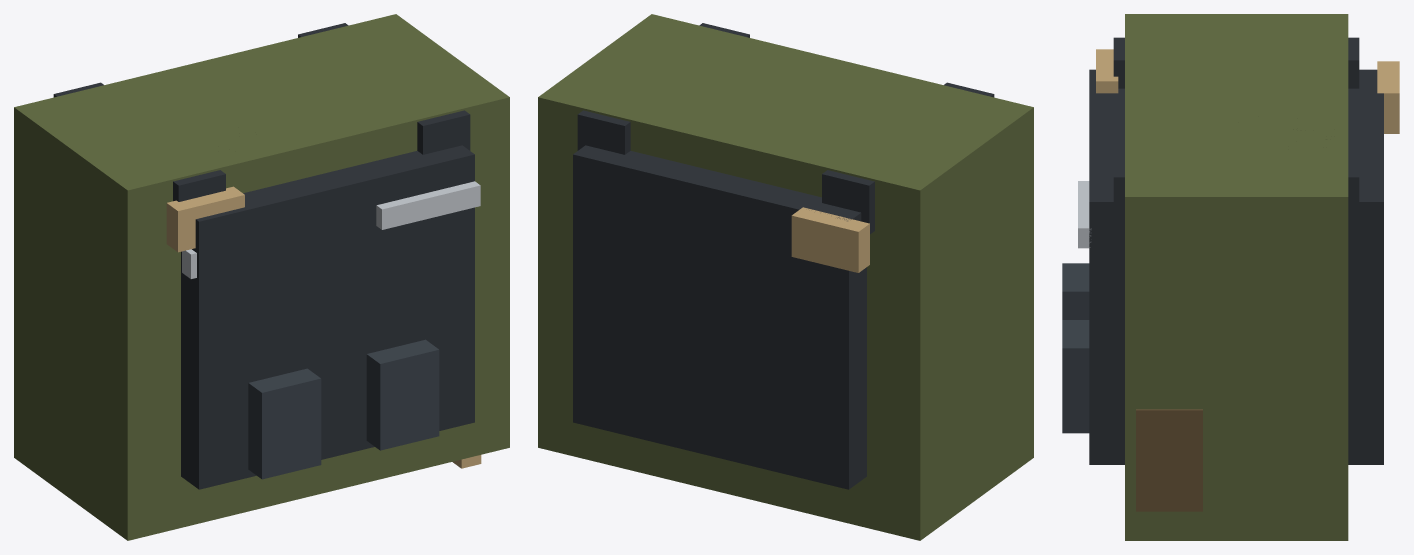
File: pc_k9_upper_torso.fbx
The picture shows the model from 3 angles, left to right: view 1: azimuth 30°, elevation 25°; view 2: azimuth 150°, elevation 25°; view 3: azimuth 270°, elevation 25°; orthographic projection.
Visible parts, largest first — view 1: pc_k9_upper_torso; view 2: pc_k9_upper_torso; view 3: pc_k9_upper_torso.
Part boxes in pixels (box(x1,y1,x2,y2)): pc_k9_upper_torso: box(14, 14, 509, 540); pc_k9_upper_torso: box(538, 14, 1033, 540); pc_k9_upper_torso: box(1062, 14, 1399, 540).
Bounding box in the file's own units: 195 × 175 × 151.
